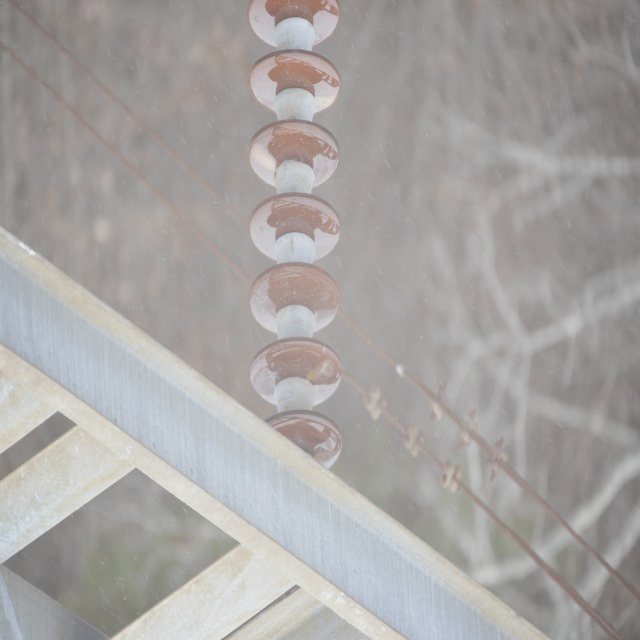insulator: (247, 0, 346, 464)
